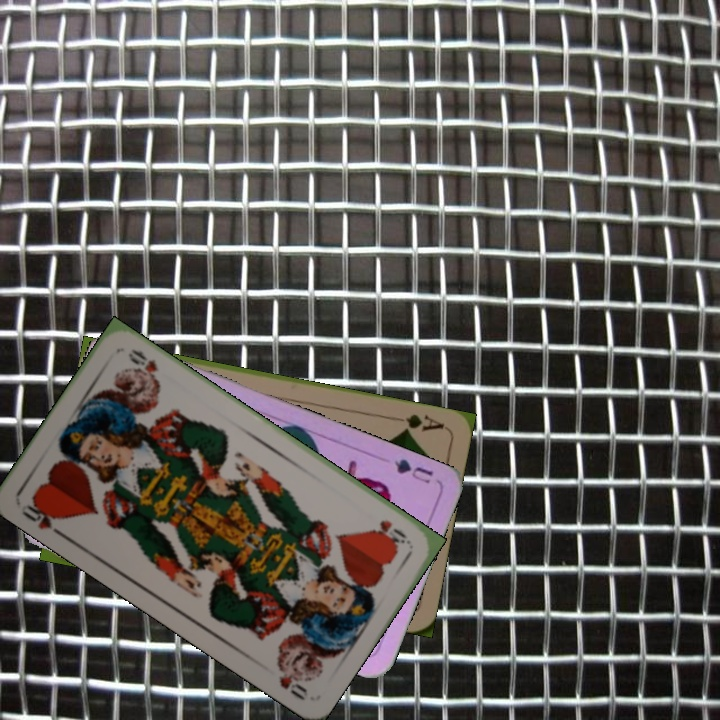GA: (388, 410, 447, 435)
GU: (390, 454, 436, 487)
HO: (16, 494, 68, 541), (369, 515, 413, 549)
